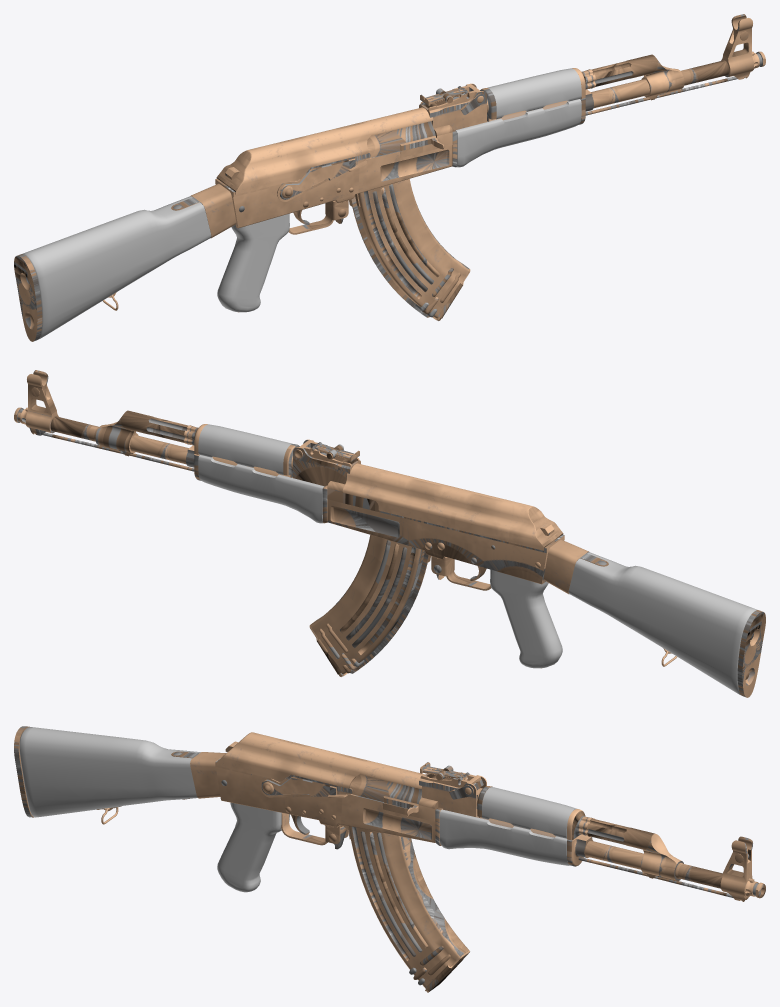
3 views of the same model, one above another, from view 1: azimuth 30°, elevation 25°; view 2: azimuth 150°, elevation 25°; view 3: azimuth 330°, elevation 25° (orthographic).
Parts seen in each view (by area): view 1: Ak-47; view 2: Ak-47; view 3: Ak-47.
Part boxes in pixels (box(x1,y1,x2,y2)): Ak-47: box(14, 14, 765, 341); Ak-47: box(14, 370, 765, 697); Ak-47: box(14, 726, 765, 992).
Size of the model in its own units: 489 by 141 by 31.81.
